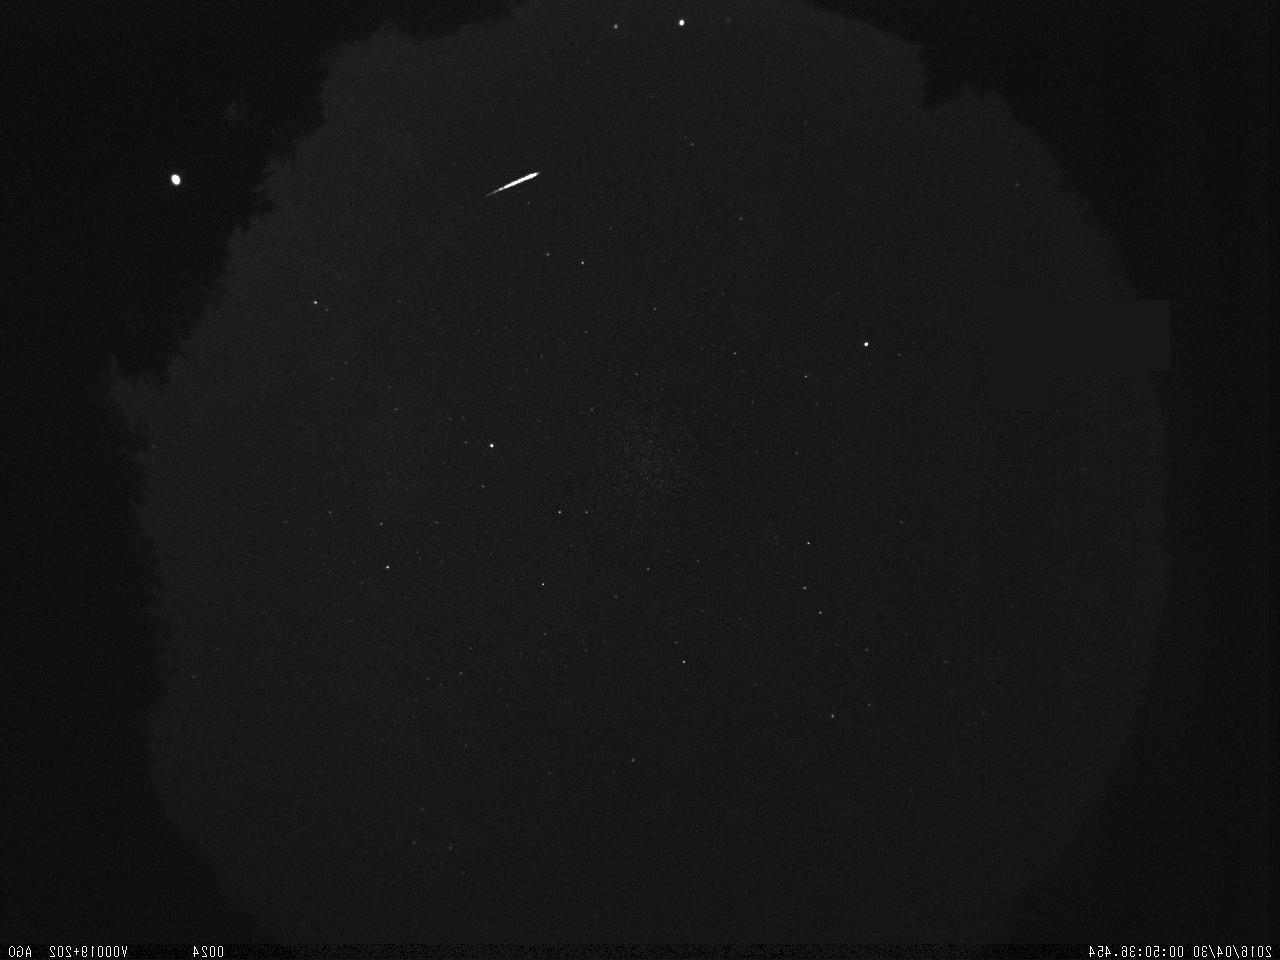meteor: (475, 168, 544, 201)
